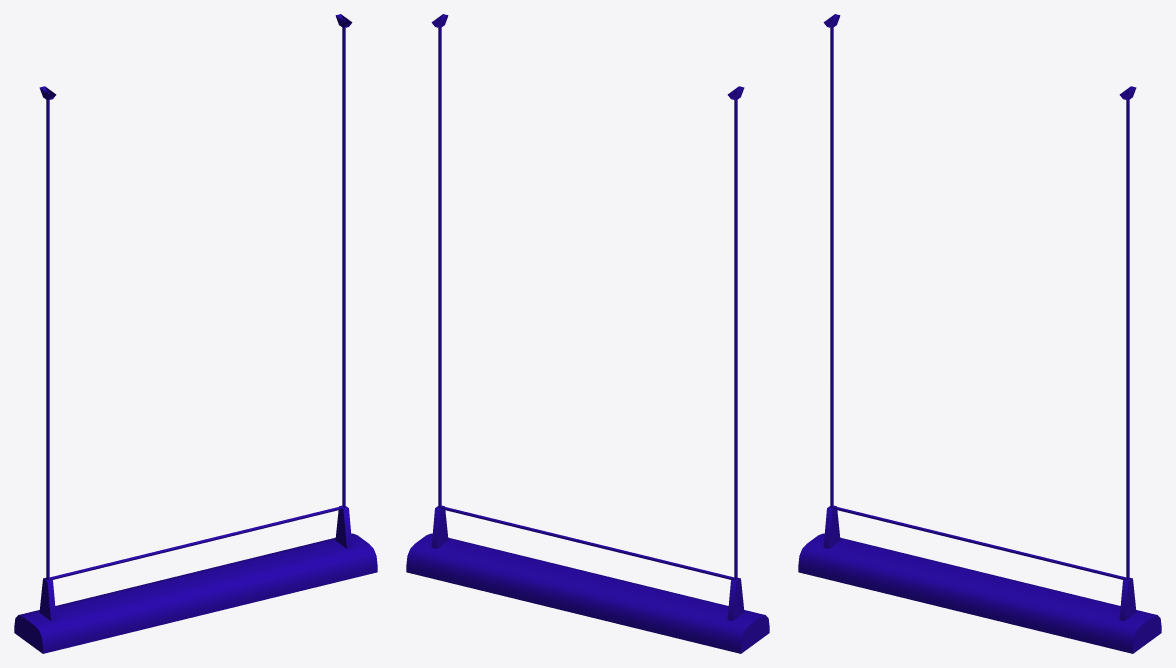
File: LampCeiling_06.FBX
3 views of the same model, side by side, from view 1: azimuth 30°, elevation 25°; view 2: azimuth 150°, elevation 25°; view 3: azimuth 330°, elevation 25° (orthographic).
Visible parts, largest first — view 1: SM_LampCeilingA_05_LOD0; view 2: SM_LampCeilingA_05_LOD0; view 3: SM_LampCeilingA_05_LOD0.
Part boxes in pixels (left/top/right/bottom): SM_LampCeilingA_05_LOD0: left=14, top=14, right=377, bottom=653; SM_LampCeilingA_05_LOD0: left=406, top=14, right=769, bottom=653; SM_LampCeilingA_05_LOD0: left=798, top=14, right=1161, bottom=653.
Size of the model in its own units: 200 by 317 by 29.56.
